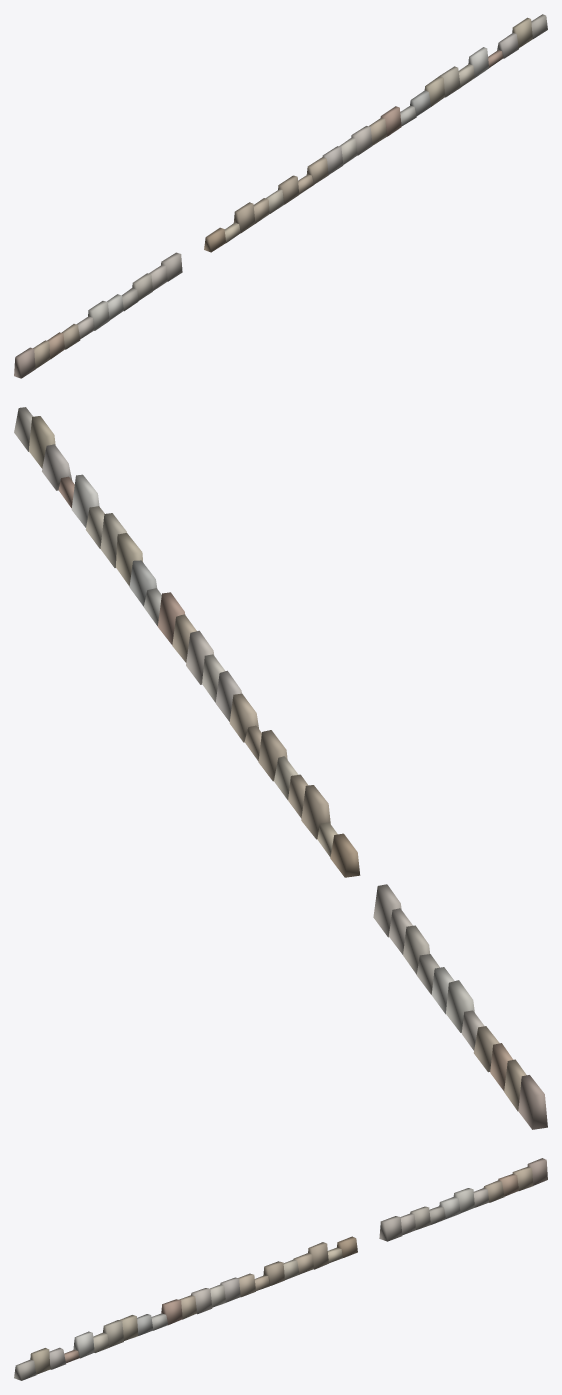
Rendered from farm_-38_-48_far.glb.
3 renders of one model, top to bottom at view 1: azimuth 90°, elevation 25°; view 2: azimuth 150°, elevation 25°; view 3: azimuth 270°, elevation 25°, orthographic. The views are drawn at different scales.
Visible parts, largest first — view 1: geometry_0; view 2: geometry_0; view 3: geometry_0.
Part boxes in pixels (x1,y1,x2,y2): geometry_0: [14, 14, 547, 378]; geometry_0: [14, 407, 547, 1129]; geometry_0: [14, 1158, 547, 1380].
Bounding box in the file's own units: 45.2 × 6.98 × 36.74.
